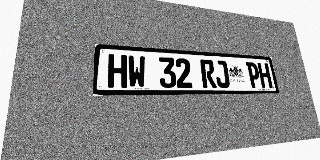2: (175, 58, 192, 88)
3: (159, 57, 177, 88)
H: (108, 54, 127, 88), (257, 63, 273, 88)
J: (214, 60, 230, 88)
P: (246, 62, 262, 88)
R: (200, 59, 217, 88)
W: (128, 55, 146, 88)
